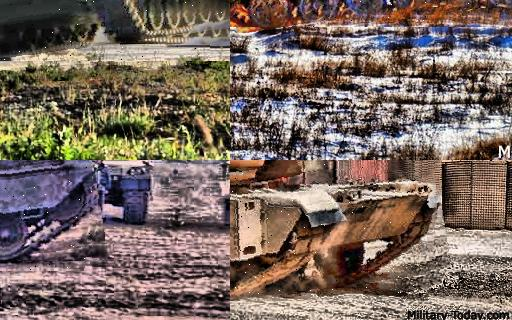tanks: (231, 164, 438, 302), (1, 1, 231, 59), (1, 161, 93, 259), (105, 161, 154, 225)
